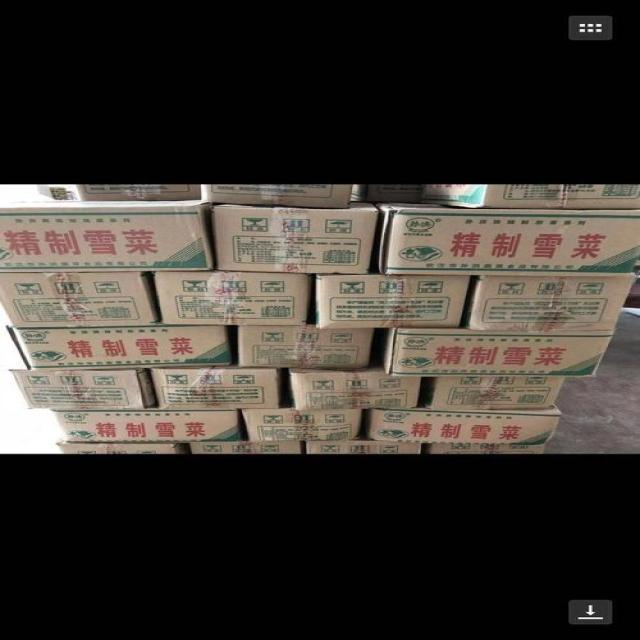box: (371, 201, 639, 274), (0, 200, 220, 273), (215, 201, 380, 273), (387, 328, 615, 376), (6, 326, 232, 372), (464, 275, 636, 330), (0, 272, 164, 328), (319, 273, 471, 328), (155, 272, 312, 325), (357, 407, 559, 446), (12, 359, 158, 409), (239, 324, 373, 371), (151, 365, 287, 411), (53, 409, 246, 441), (292, 367, 423, 411), (416, 376, 565, 409), (426, 184, 639, 207), (240, 408, 364, 441), (199, 183, 353, 208), (40, 184, 200, 202), (56, 441, 191, 456), (306, 439, 422, 454), (186, 441, 306, 454), (428, 443, 545, 453)
